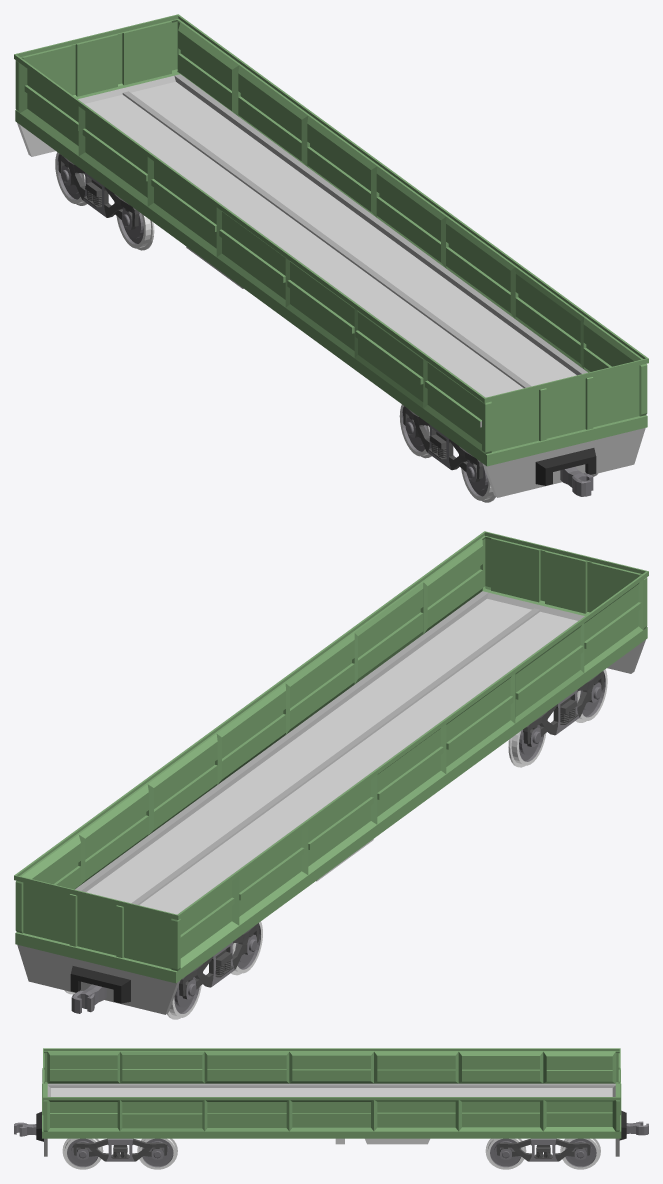
File: Semi - platform car.fbx
3 renders of one model, top to bottom at view 1: azimuth 30°, elevation 25°; view 2: azimuth 150°, elevation 25°; view 3: azimuth 270°, elevation 25°, orthographic. The views are drawn at different scales.
Visible parts, largest first — view 1: Body, Coupling, Cart.001, Cart.002, Cylinder.002, Cylinder; view 2: Body, Coupling.001, Cart.001, Cart.002, Cylinder.001, Cylinder.003; view 3: Body, Cart.001, Cart.002, Cylinder.001, Cylinder.003, Cylinder, Cylinder.002, Coupling, Coupling.001.
Boxes of the visible parts, x1,y1,x2,y2 form: Body: [14, 14, 648, 497]; Coupling: [535, 448, 596, 496]; Cart.001: [403, 406, 483, 482]; Cart.002: [58, 154, 139, 229]; Cylinder.002: [116, 207, 154, 250]; Cylinder: [461, 460, 597, 502]; Body: [14, 531, 648, 1014]; Coupling.001: [70, 966, 130, 1013]; Cart.001: [523, 671, 603, 746]; Cart.002: [179, 924, 259, 999]; Cylinder.001: [508, 725, 546, 767]; Cylinder.003: [64, 977, 201, 1019]; Body: [42, 1048, 621, 1156]; Cart.001: [73, 1138, 167, 1161]; Cart.002: [496, 1138, 590, 1161]; Cylinder.001: [137, 1138, 177, 1169]; Cylinder.003: [560, 1138, 600, 1169]; Cylinder: [62, 1138, 103, 1169]; Cylinder.002: [485, 1138, 526, 1169]; Coupling: [14, 1111, 43, 1141]; Coupling.001: [619, 1110, 648, 1140].
Bounding box in the file's own units: 159 × 122 × 864.
